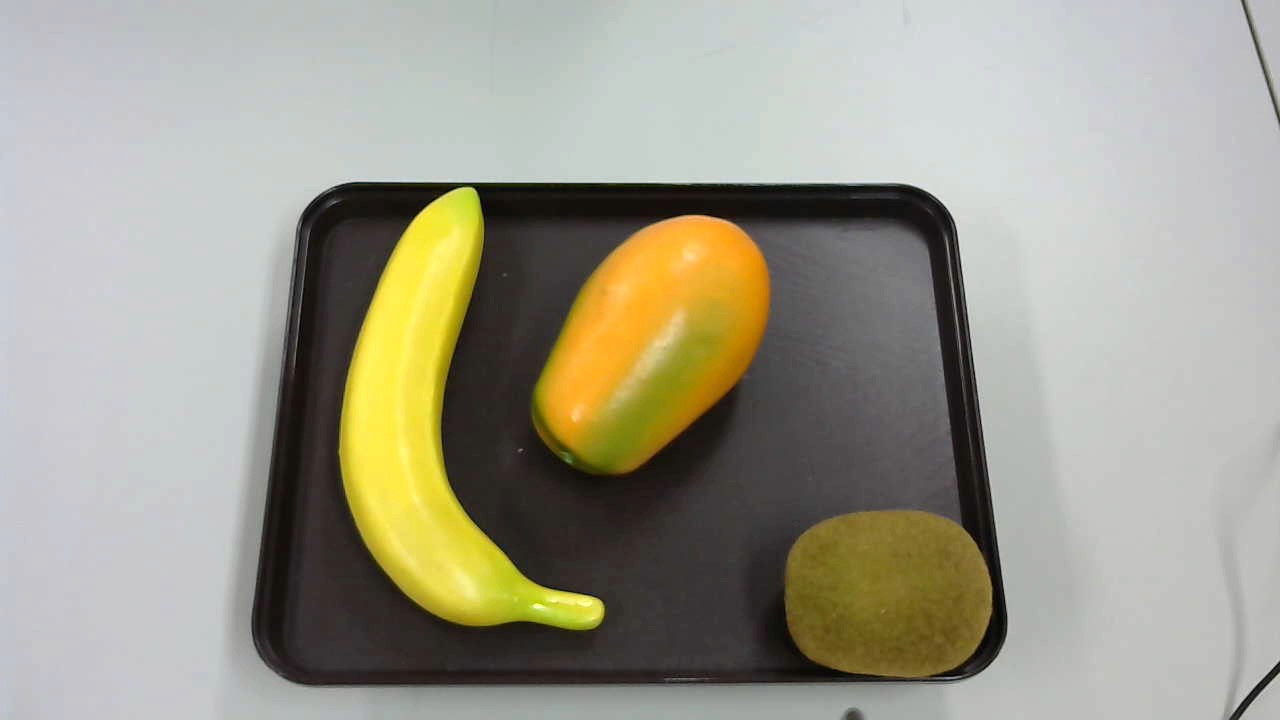banana: (335, 184, 611, 640)
kiwi fruit: (786, 508, 993, 677)
papya: (521, 201, 776, 487)
